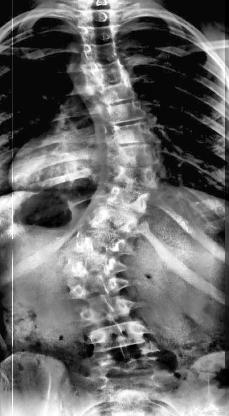Vertebrae: (88, 320, 146, 354), (80, 291, 134, 327), (91, 206, 139, 236), (106, 186, 154, 216), (69, 255, 125, 279), (107, 144, 161, 168), (80, 231, 130, 256), (106, 123, 156, 147), (116, 166, 162, 192), (70, 279, 128, 299), (101, 104, 150, 125), (98, 82, 140, 106), (88, 64, 130, 86), (82, 43, 124, 65), (78, 24, 118, 46), (77, 9, 117, 29)
